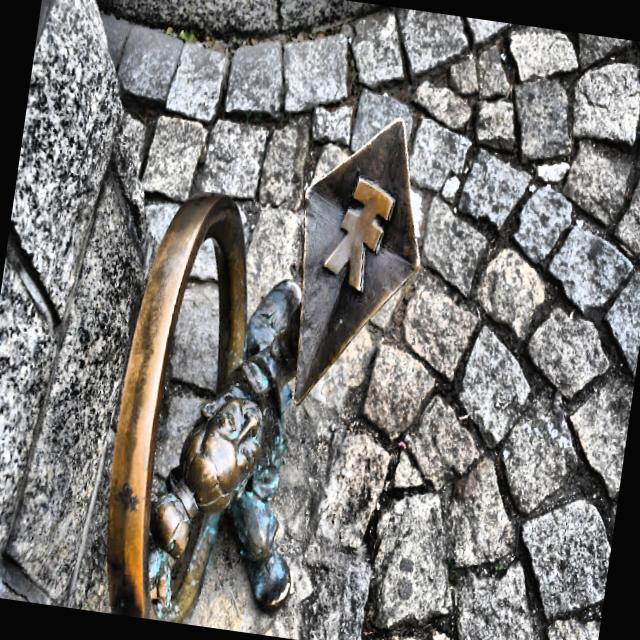TianTian: (108, 120, 419, 621)
